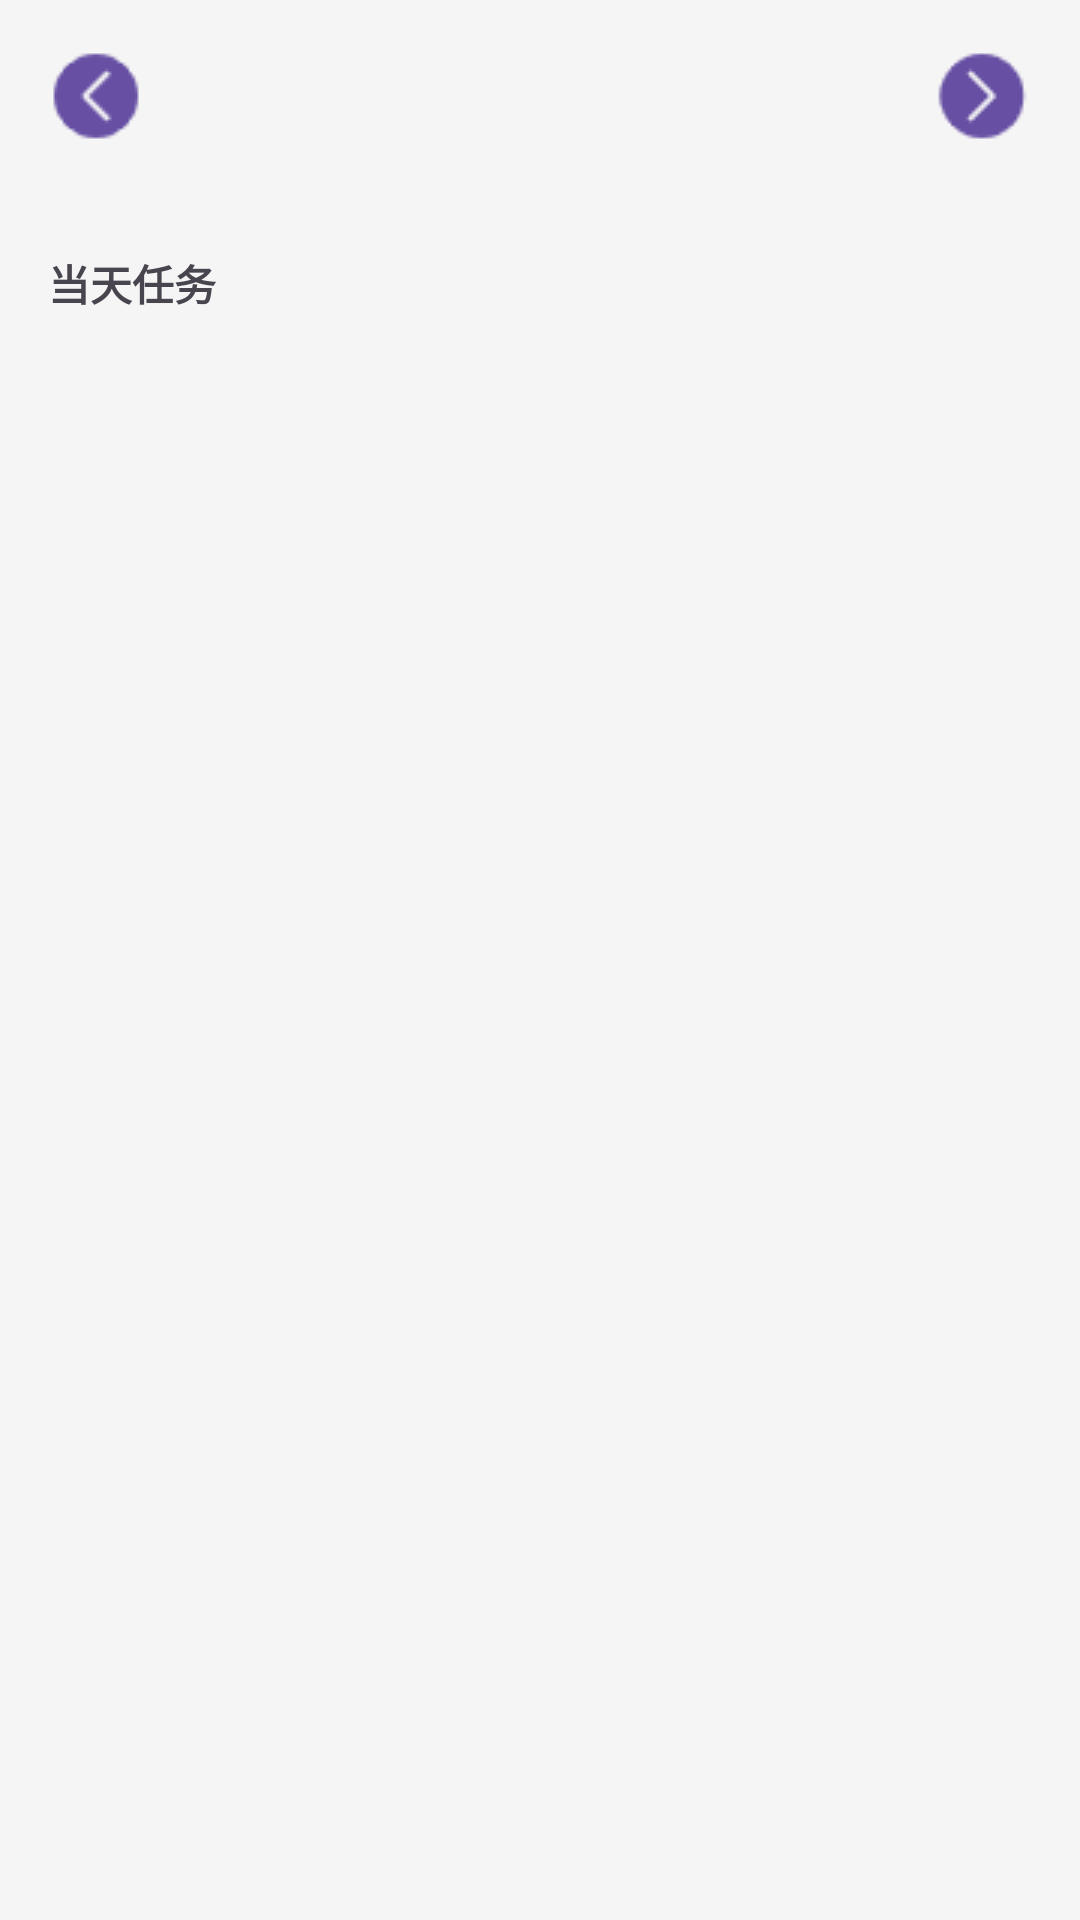

Screen size 1080 x 1920. Icon name, then its center in pixels as (x=x, y=y):
上一月: (x=96, y=96)
下一月: (x=981, y=96)
